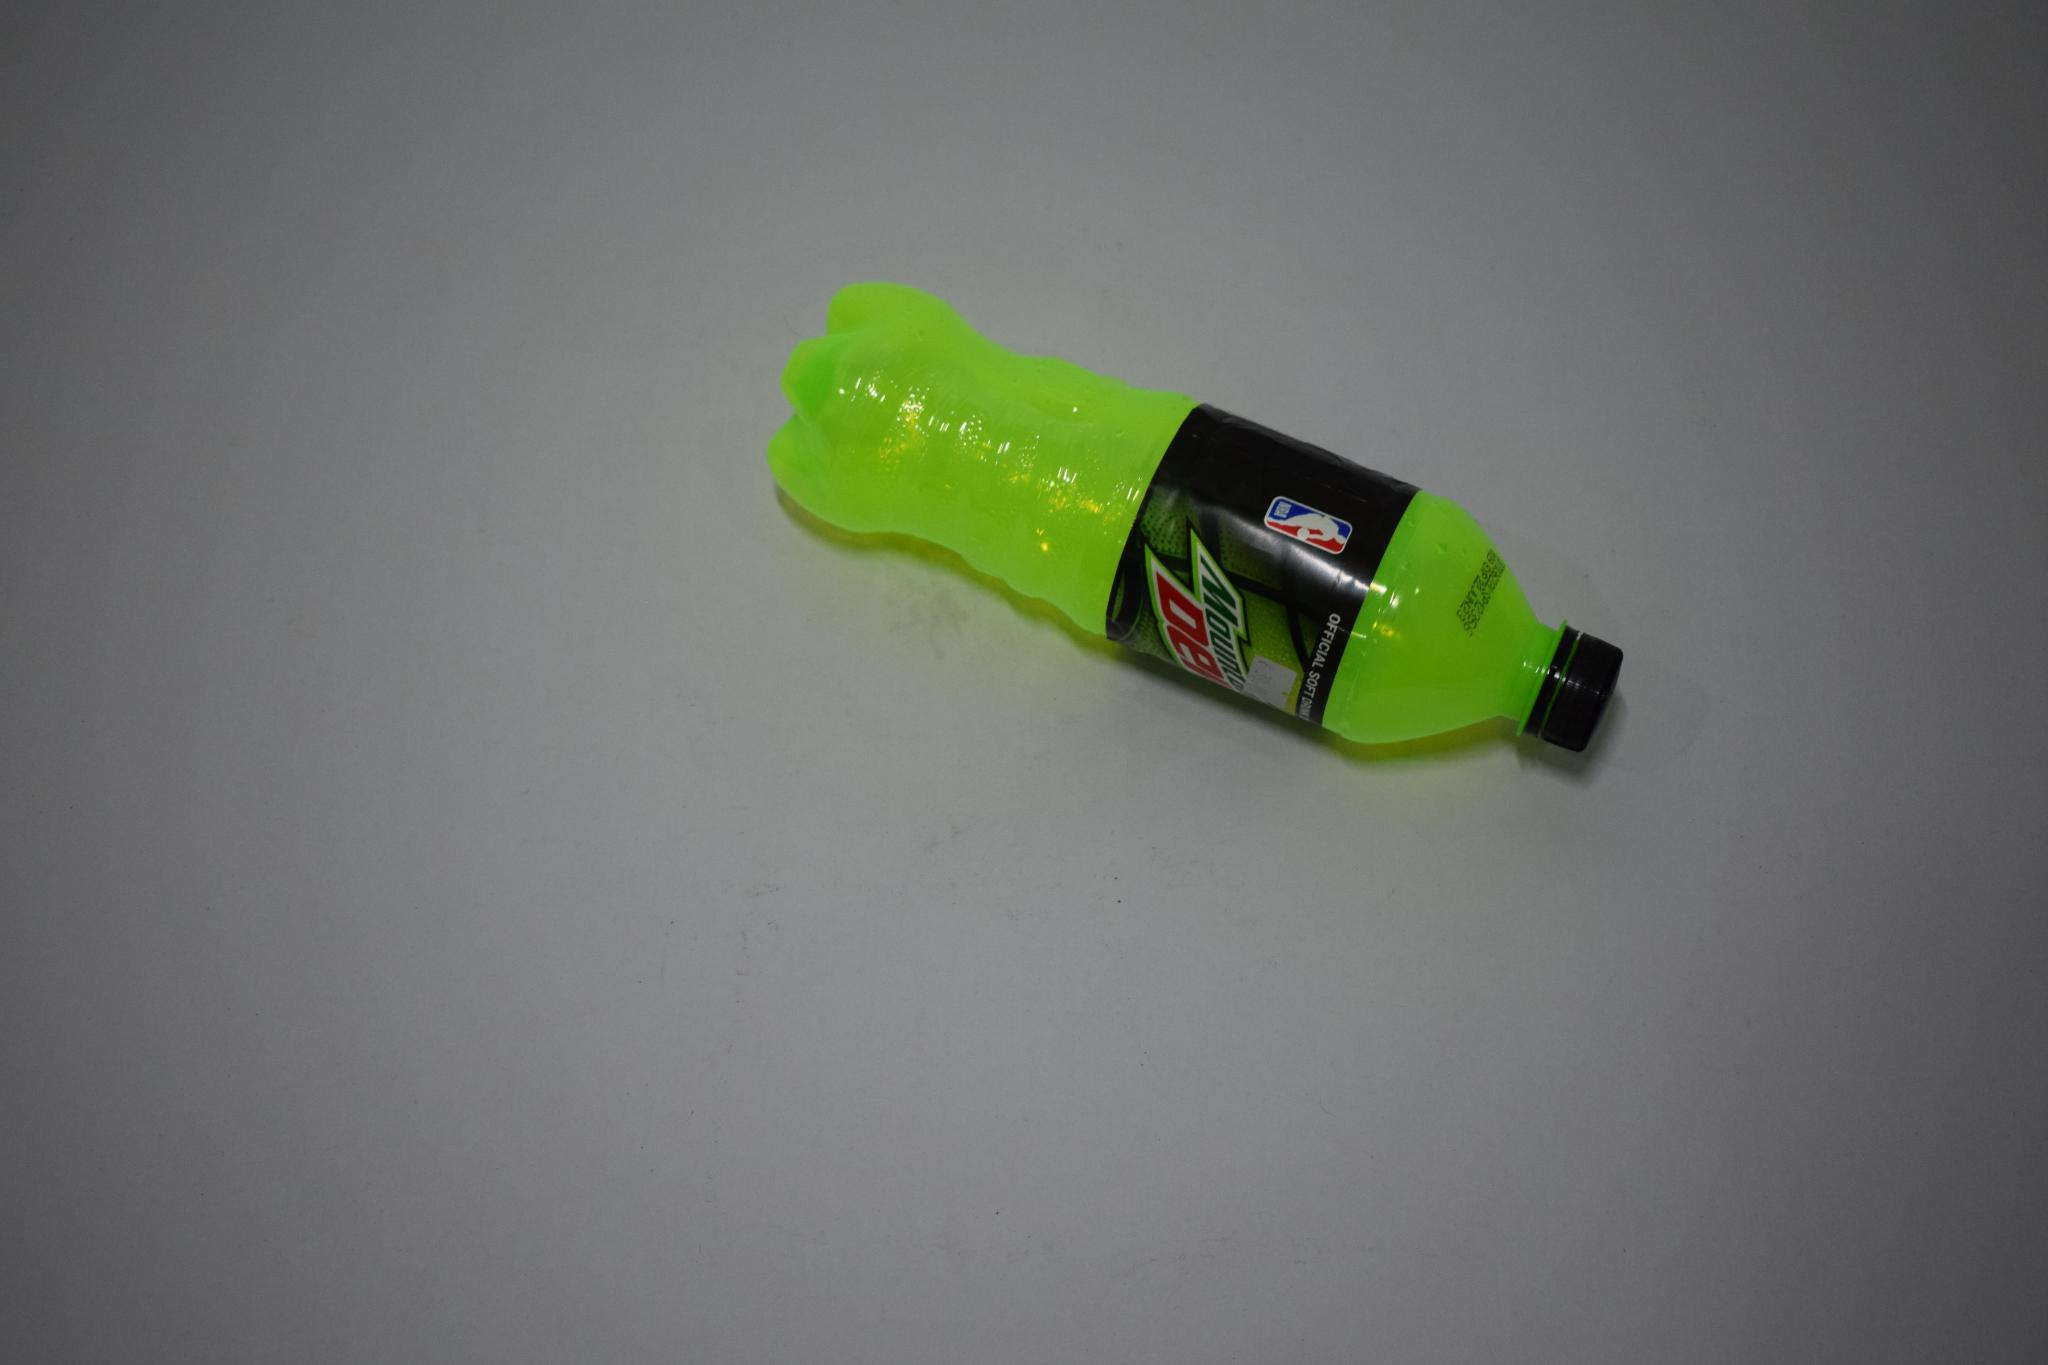bottle: (770, 282, 1628, 756)
